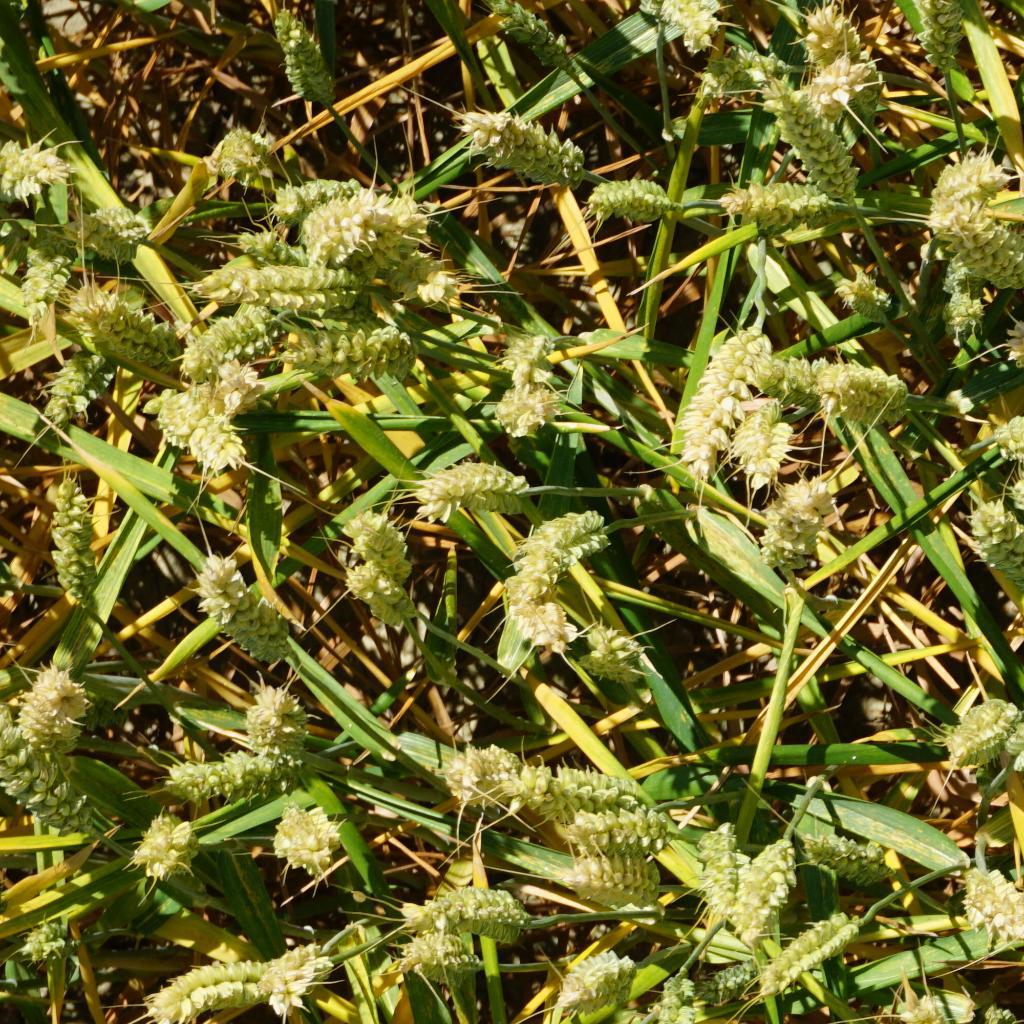0-0: (0, 702, 109, 841), (181, 557, 292, 664), (147, 379, 258, 474), (452, 104, 586, 182), (144, 954, 288, 1024), (279, 318, 423, 386), (771, 91, 860, 196), (482, 1, 600, 75), (954, 493, 1024, 616), (366, 188, 449, 290), (688, 326, 752, 458), (266, 11, 344, 115), (801, 0, 896, 85), (13, 662, 98, 748), (408, 451, 525, 513), (67, 291, 178, 355), (152, 752, 298, 797), (61, 198, 160, 264), (940, 697, 1020, 778), (521, 764, 643, 817), (258, 938, 339, 1017), (760, 472, 827, 567), (208, 271, 356, 313), (580, 170, 687, 228), (766, 913, 862, 977), (504, 569, 577, 653), (419, 882, 528, 938), (44, 482, 92, 608), (721, 183, 836, 233), (921, 146, 1001, 217), (517, 508, 613, 566), (796, 828, 899, 882), (567, 850, 668, 905), (0, 132, 76, 205), (898, 1, 963, 85), (180, 308, 269, 369), (736, 406, 808, 481), (391, 934, 491, 988), (733, 841, 794, 927), (233, 683, 308, 752), (135, 813, 211, 881), (341, 508, 415, 576), (556, 806, 672, 849), (556, 951, 643, 1008), (304, 194, 379, 259), (813, 363, 900, 419), (340, 560, 419, 620), (481, 375, 558, 436), (16, 902, 81, 972), (579, 624, 653, 685), (18, 236, 74, 316), (950, 224, 1024, 284), (963, 865, 1024, 937), (214, 129, 280, 194), (273, 807, 340, 870), (39, 350, 95, 422), (492, 326, 560, 385), (444, 742, 515, 798), (690, 822, 733, 911), (751, 347, 819, 403), (698, 41, 783, 85), (232, 225, 309, 270), (826, 273, 899, 320), (805, 64, 864, 122), (266, 163, 335, 210), (975, 403, 1024, 469), (655, 0, 719, 50), (690, 950, 758, 997), (932, 283, 987, 339), (914, 989, 982, 1024), (214, 364, 261, 409), (655, 981, 702, 1024)
